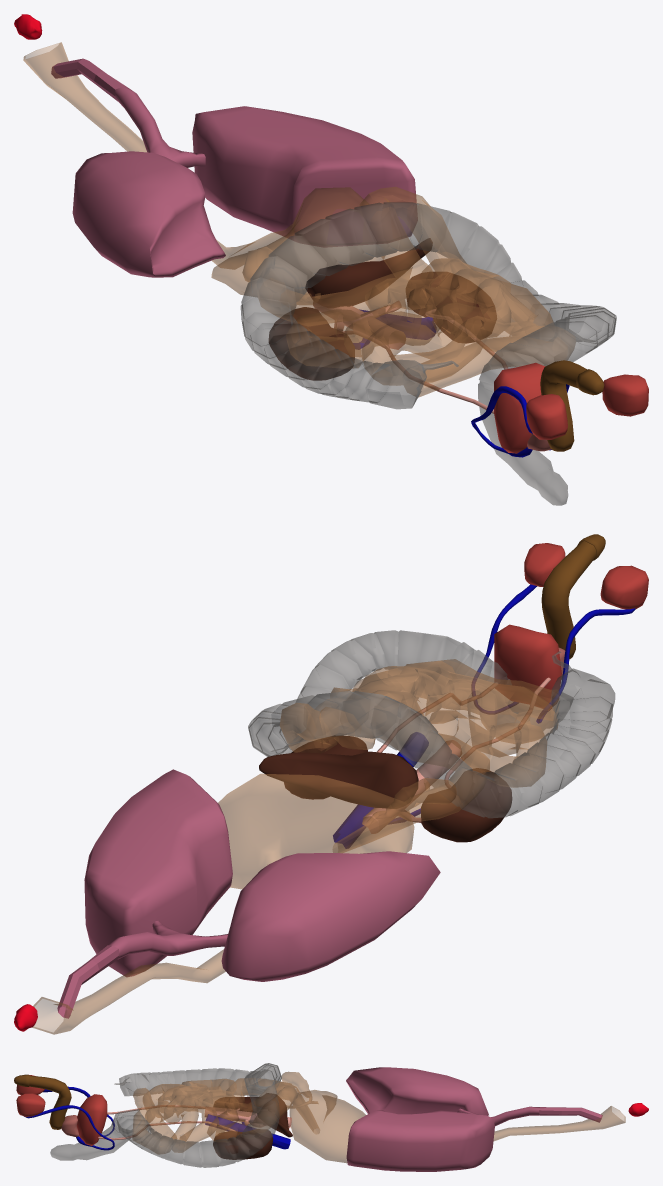
The model's file is Food travel.fbx.
3 views of the same model, one above another, from view 1: azimuth 30°, elevation 25°; view 2: azimuth 150°, elevation 25°; view 3: azimuth 270°, elevation 25° (orthographic). The views are drawn at different scales.
Visible parts, largest first — view 1: pasted__pCube3, pasted__polySurface5, pasted__pCylinder1, pasted__polySurface8, pasted__polySurface13, pasted__polySurface10, pasted__polySurface3, pCube1, pCylinder1, pasted__polySurface14, pCube3, pCube4 (+3 smaller); view 2: pasted__pCube3, pasted__polySurface5, pasted__pCylinder1, pasted__polySurface8, pasted__polySurface3, pasted__polySurface13, pCube1, pCylinder1, pasted__polySurface14, pCube4, pasted__polySurface6, pasted__polySurface11 (+4 smaller); view 3: pasted__pCube3, pasted__polySurface5, pasted__pCylinder1, pasted__polySurface8, pasted__polySurface10, pCube1, pCylinder1, pasted__polySurface3, pasted__polySurface14, pasted__polySurface11, pCube3, pasted__polySurface6 (+7 smaller).
Boxes of the visible parts, x1,y1,x2,y2 form: pasted__pCube3: (51, 58, 417, 277); pasted__polySurface5: (240, 202, 616, 505); pasted__pCylinder1: (257, 186, 575, 397); pasted__polySurface8: (23, 42, 384, 304); pasted__polySurface13: (269, 307, 354, 380); pasted__polySurface10: (406, 272, 496, 343); pasted__polySurface3: (305, 238, 432, 307); pCube1: (494, 362, 544, 453); pCylinder1: (540, 360, 604, 451); pasted__polySurface14: (313, 301, 405, 349); pCube3: (602, 374, 648, 416); pCube4: (526, 394, 567, 439); pasted__pCube3: (57, 769, 440, 1018); pasted__polySurface5: (248, 630, 615, 818); pasted__pCylinder1: (279, 659, 559, 852); pasted__polySurface8: (32, 773, 414, 1034); pasted__polySurface3: (259, 751, 418, 808); pasted__polySurface13: (421, 768, 511, 842); pCube1: (494, 624, 561, 709); pCylinder1: (541, 534, 605, 659); pasted__polySurface14: (362, 740, 461, 833); pCube4: (600, 565, 648, 609); pasted__polySurface6: (367, 778, 456, 824); pasted__polySurface11: (333, 732, 428, 848); pasted__pCube3: (346, 1067, 602, 1171); pasted__polySurface5: (50, 1063, 281, 1167); pasted__pCylinder1: (132, 1078, 319, 1154); pasted__polySurface8: (289, 1090, 625, 1163); pasted__polySurface10: (213, 1129, 273, 1159); pCube1: (76, 1094, 107, 1145); pCylinder1: (14, 1074, 71, 1129); pasted__polySurface3: (255, 1093, 292, 1137); pasted__polySurface14: (204, 1107, 291, 1128); pasted__polySurface11: (205, 1114, 290, 1149); pCube3: (16, 1093, 45, 1116); pasted__polySurface6: (281, 1071, 318, 1108).
Size of the model in its own units: 242 by 126 by 820.
